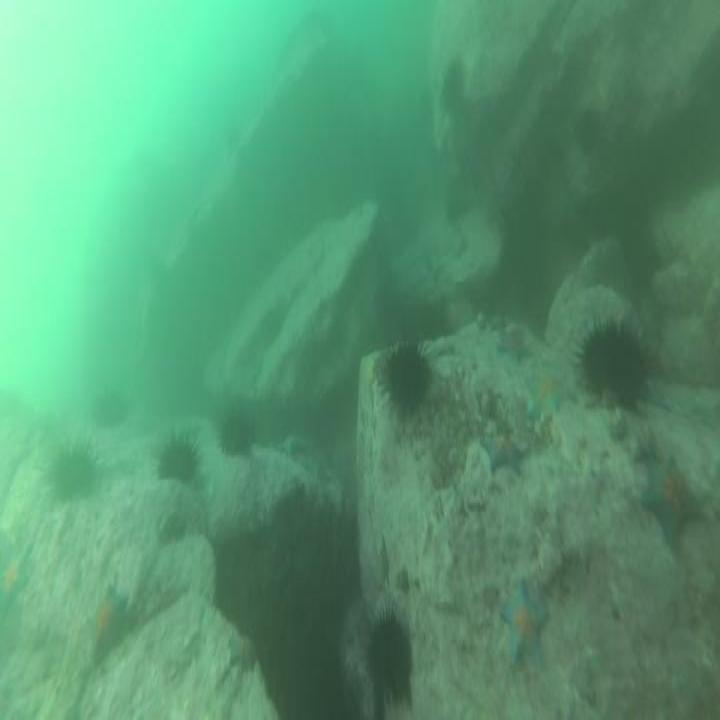echinus: (573, 316, 652, 412), (372, 332, 435, 425), (360, 604, 415, 710), (47, 437, 98, 505), (154, 430, 203, 489), (218, 402, 259, 466), (435, 55, 468, 121), (570, 105, 604, 156), (441, 171, 472, 224), (93, 388, 126, 432)
starfish: (637, 452, 708, 556), (496, 576, 554, 676), (84, 581, 131, 667), (523, 363, 574, 425), (480, 425, 531, 482), (0, 542, 30, 615), (491, 322, 537, 366), (224, 626, 262, 674)
